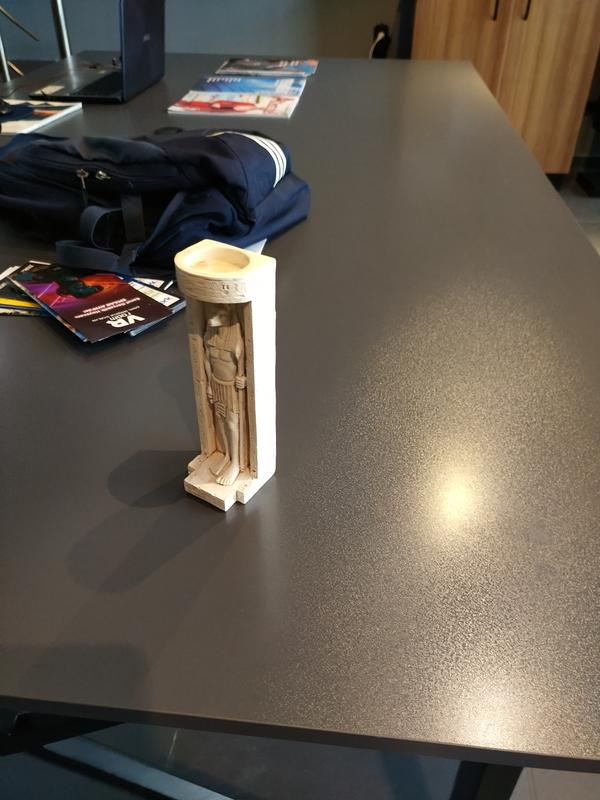heykel: (165, 233, 293, 524)
